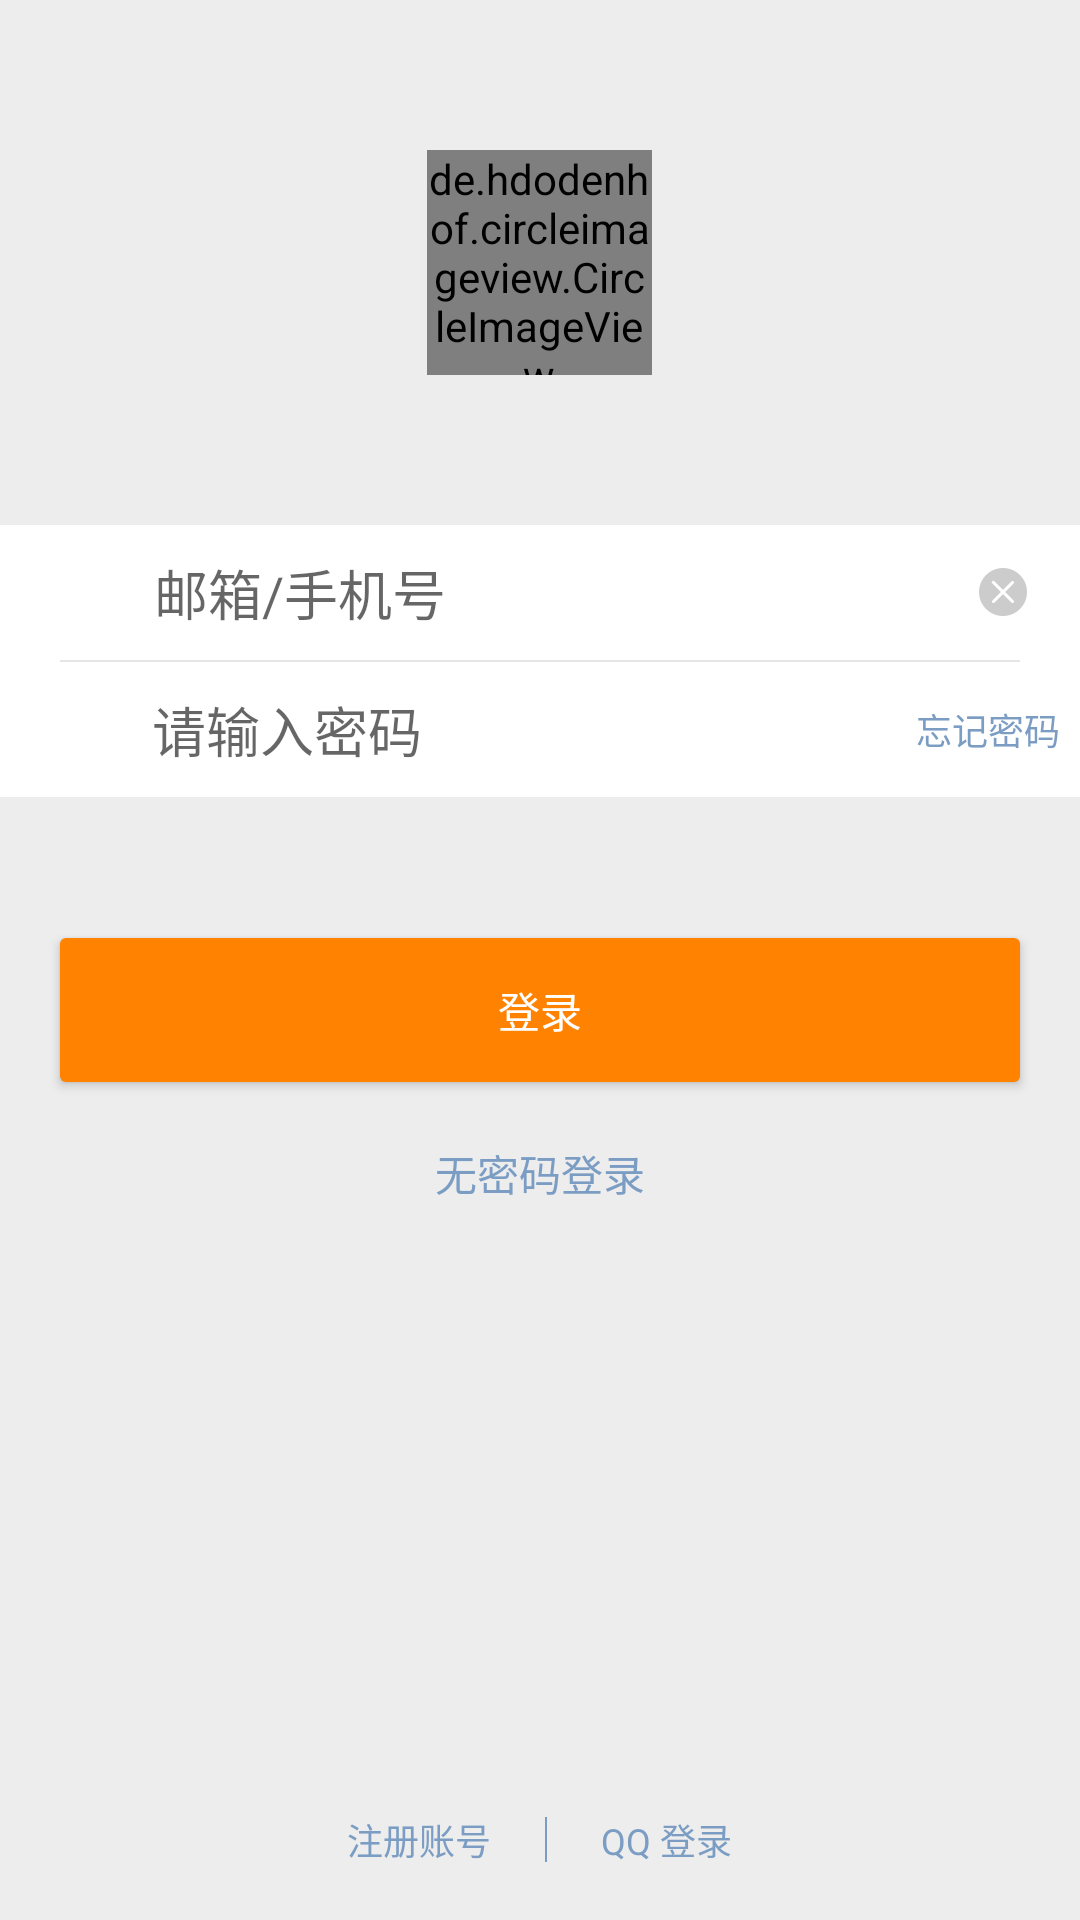

Named icons in this screenshot (1080 × 1920) and their bounding boxes, [x1=x1, y1=y1, x2=x2, y2=y2]:
delete: [x1=979, y1=568, x2=1027, y2=616]
